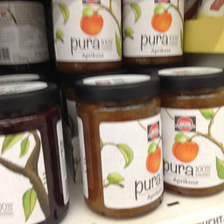jam: (73, 73, 165, 220), (1, 82, 72, 224), (155, 65, 224, 197), (51, 1, 123, 74), (123, 1, 185, 71)
